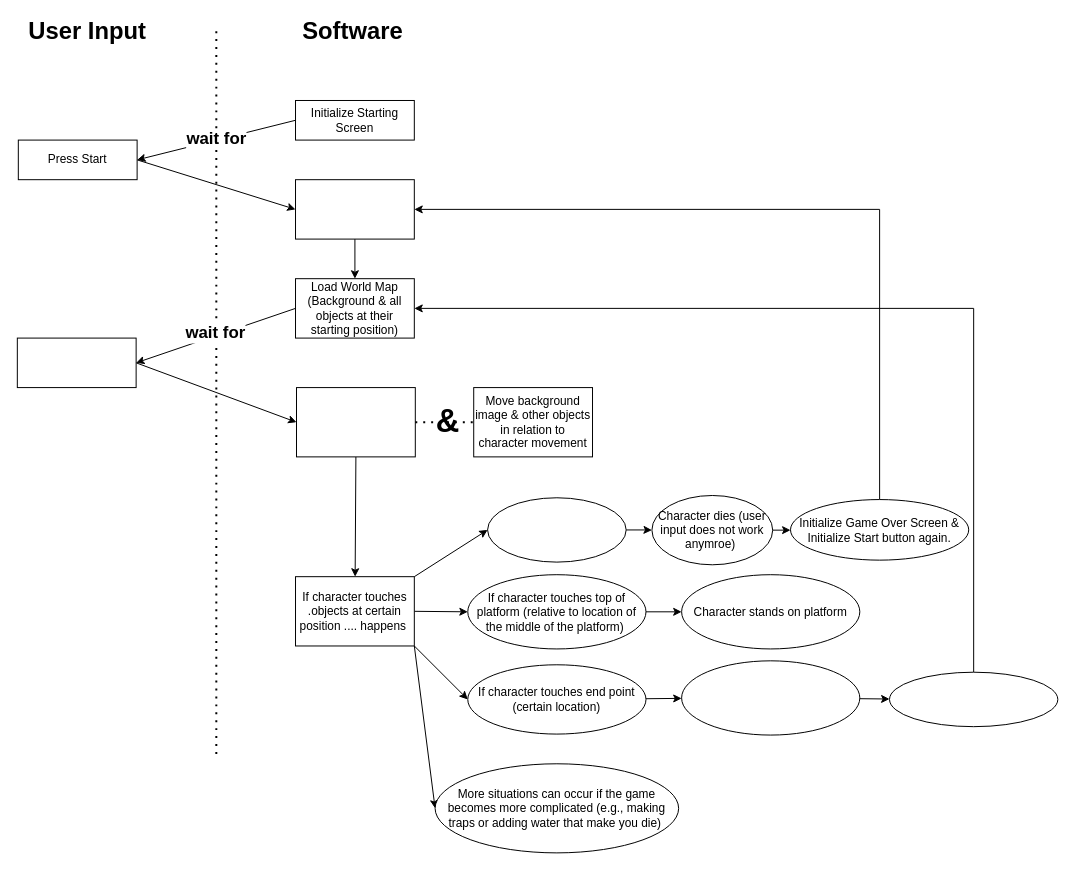
Some shapes in this 1075 by 870 pixel diagram are drawn without their labels. The shapes that lost their labels are listed below. From the top down, each one's centre as x and y in pixels, then its label:
point 354,209: Process mouseclick & Initialize Game Screen
point 76,362: Press cursors (left/right/up/down) for a certain time
point 355,422: Move character object in cursor direction for a certain distance
point 556,529: If character touches enemy
point 770,697: 'Level Complete!' appears & button 'Start Next Level' appears
point 973,699: If 'Start Next Level' is clicked, new map is loaded
